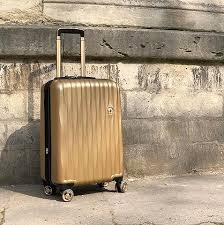suitcase: (40, 27, 127, 201)
